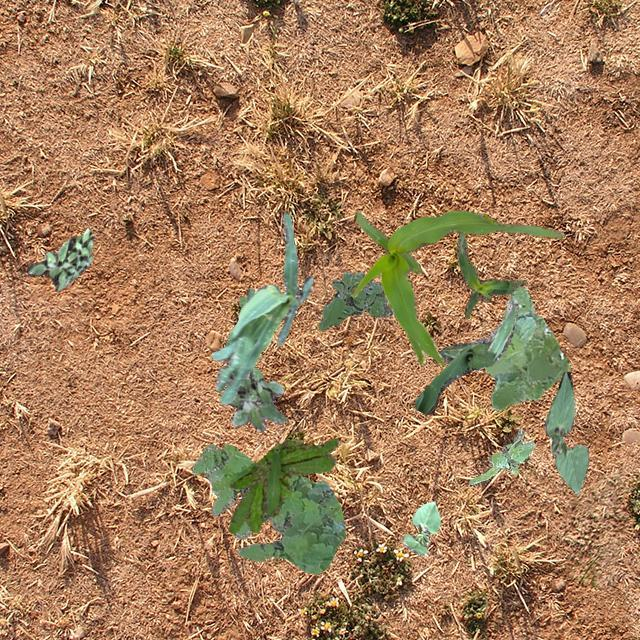crop: (350, 210, 564, 364), (210, 212, 312, 404), (413, 296, 518, 414), (456, 232, 526, 318), (542, 370, 588, 492), (400, 500, 440, 554)
weed: (192, 442, 344, 574), (484, 284, 570, 410), (226, 438, 338, 532), (318, 270, 392, 328), (26, 227, 92, 290), (227, 368, 286, 430), (468, 428, 534, 483), (238, 288, 254, 306)
